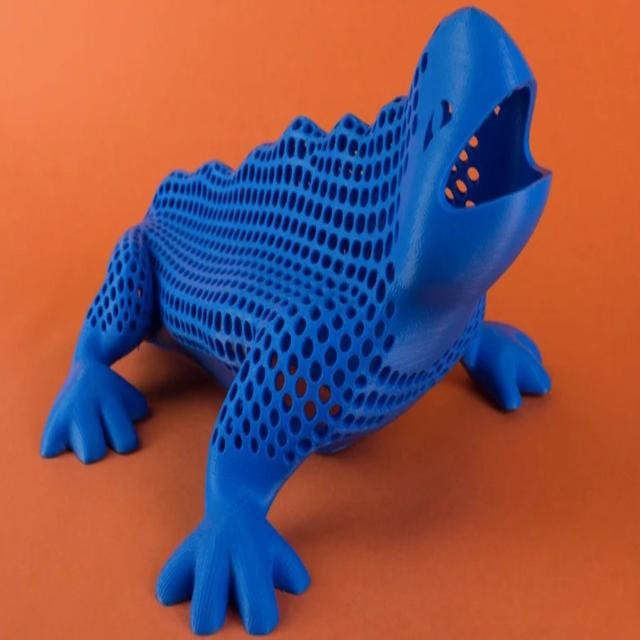Without deffect: (41, 8, 554, 632)
